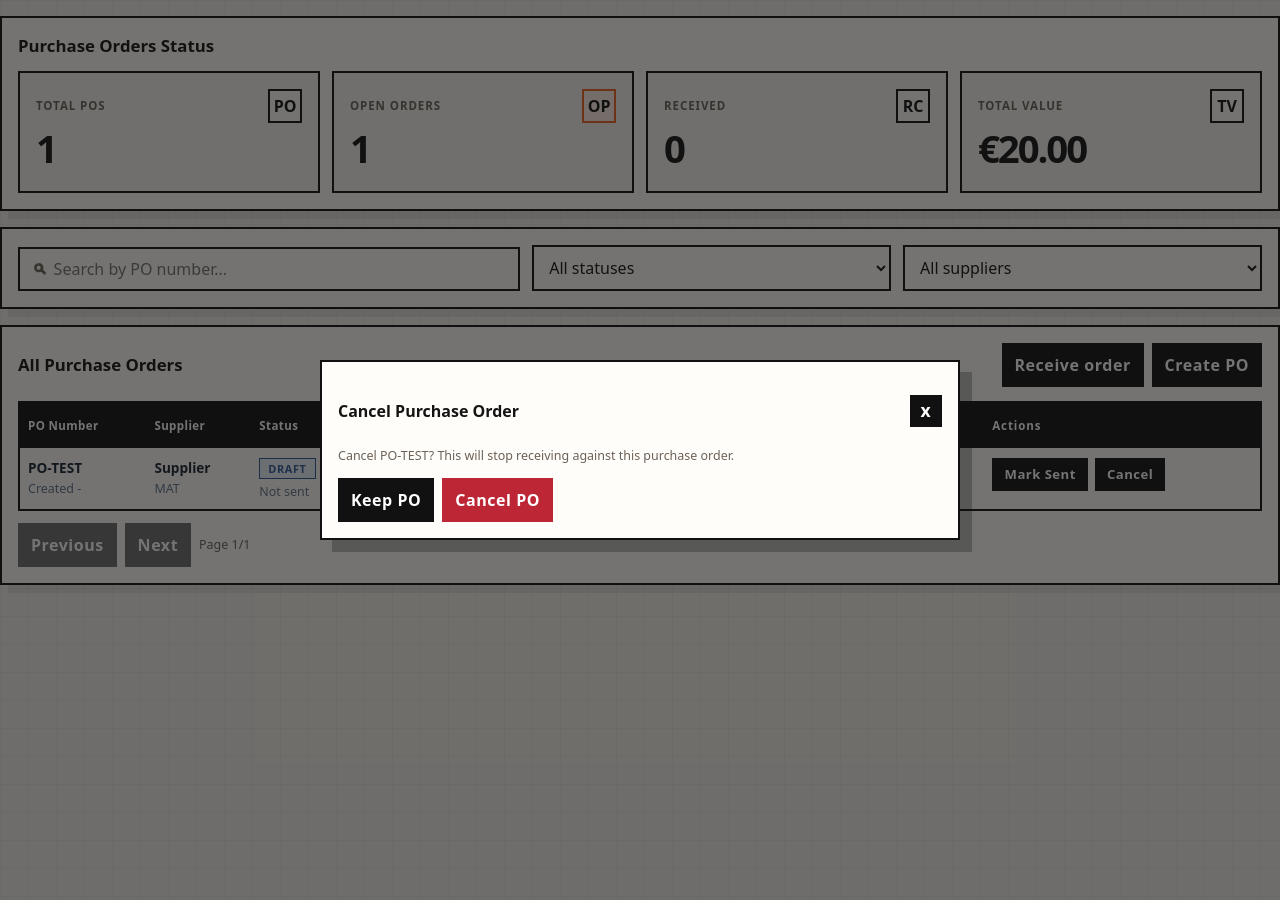
Test case: purchase order status feedback › uses a safe status error for unexpected rejection values (cancel=true)
What coordinates should you click on to do the following:
click the button "Cancel PO"
I would click on:
 (498, 500)
Its box is left=442, top=478, right=553, bottom=522.
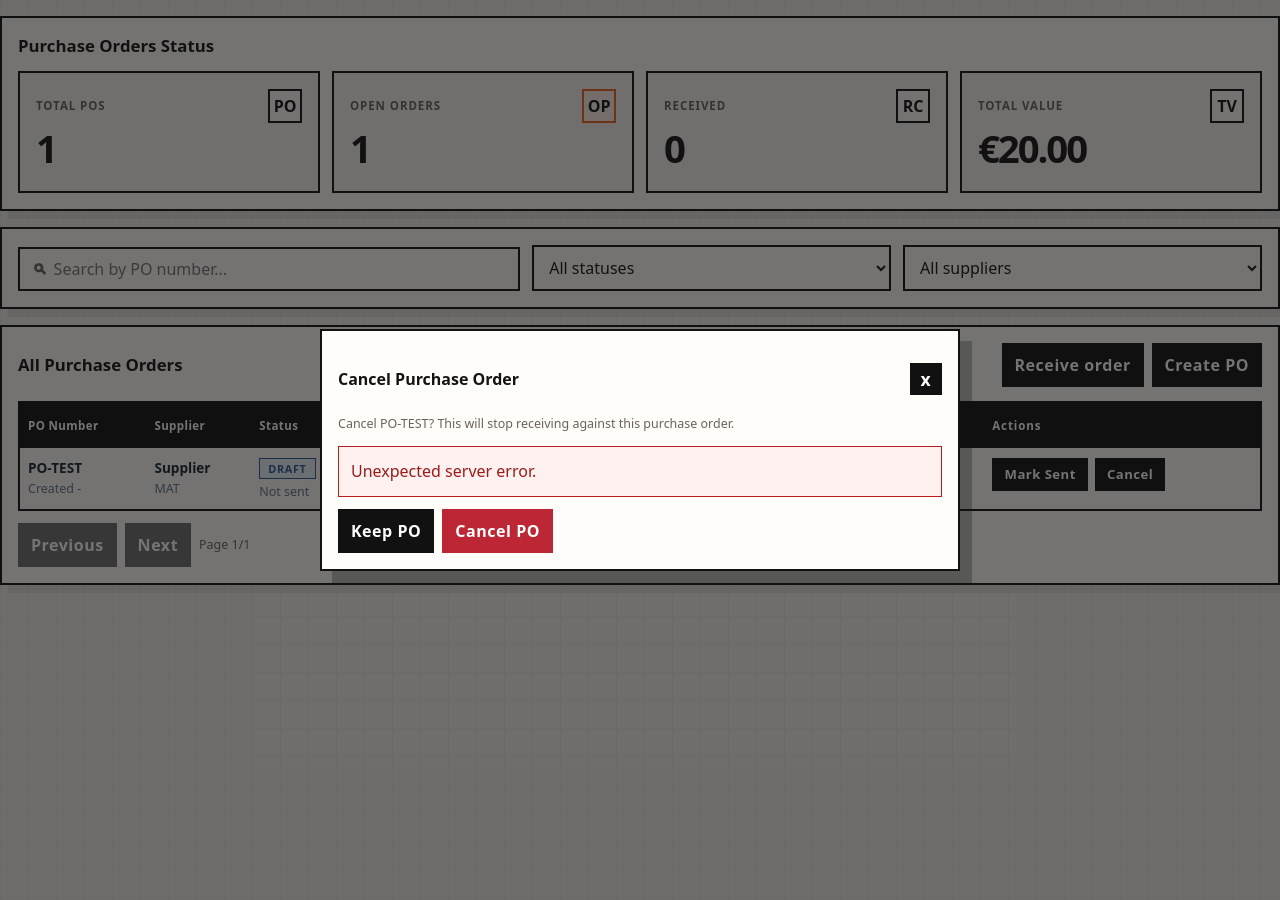
Expected: the message reads "Unexpected server error.", left=351, top=460, right=536, bottom=482
